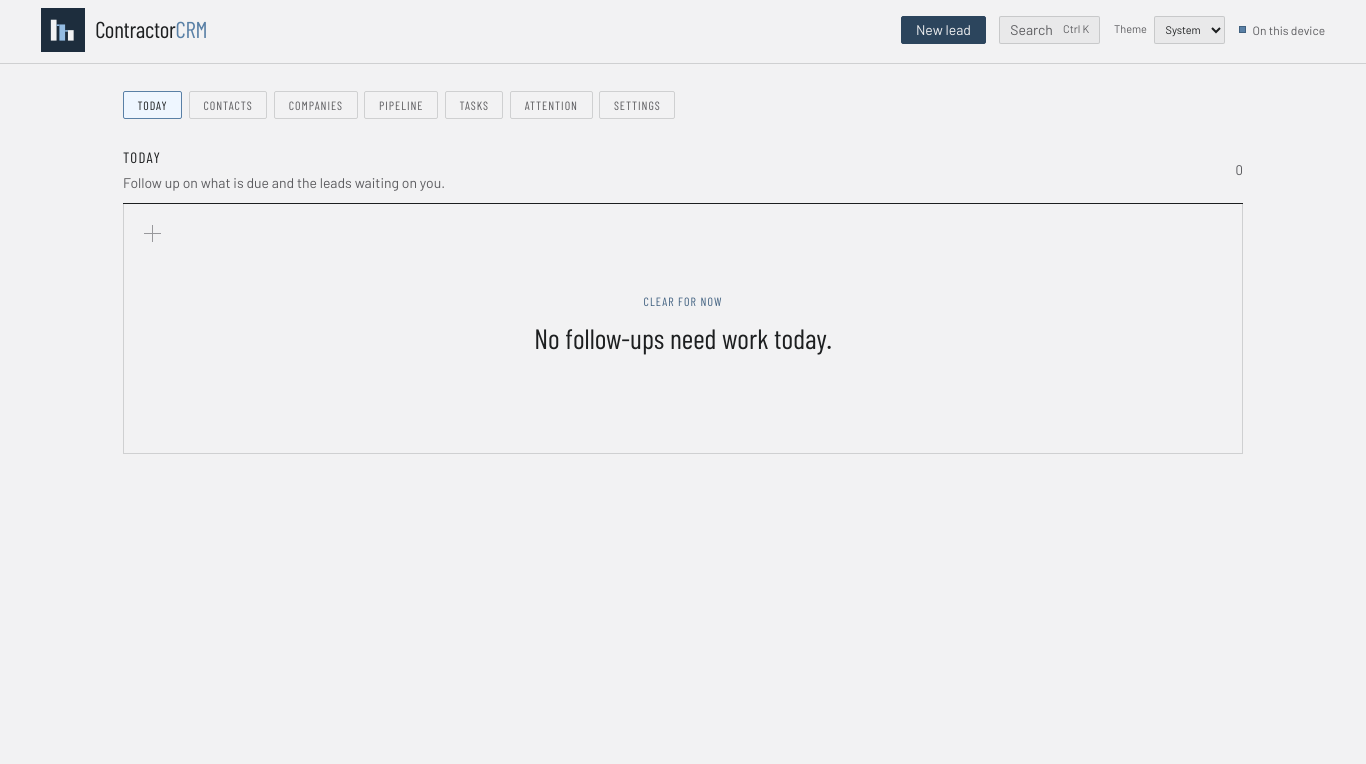
Test case: AI assistant settings › names the endpoint host when the model is not on this machine
This screenshot has width=1366, height=764.
Click the button "Settings" at (637, 105), box [599,91,675,119]
(page scrolled)
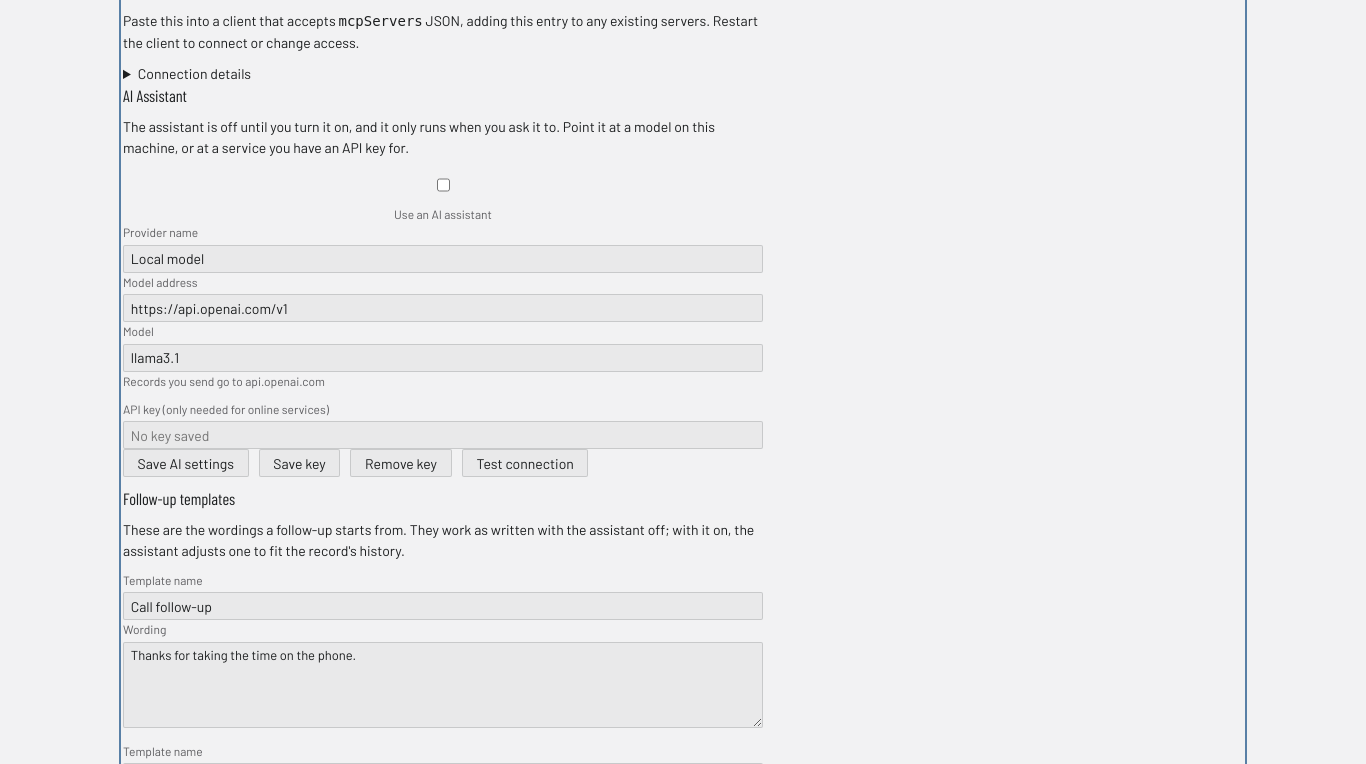
Expected: the text "Records you send go to api.openai.com" is shown, [123,374,325,388]
